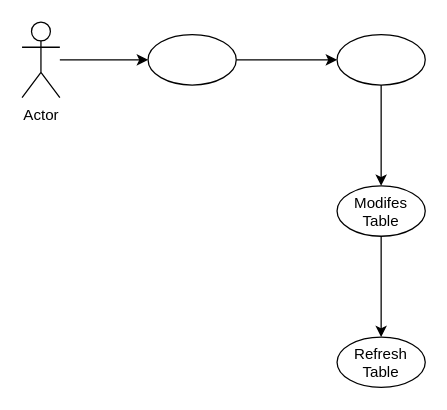
This 447x410 diagram has some shape labels left out. Each missing label, with the centre of its shape:
Access MainUI: the point at 380,59
Logins: the point at 191,59
